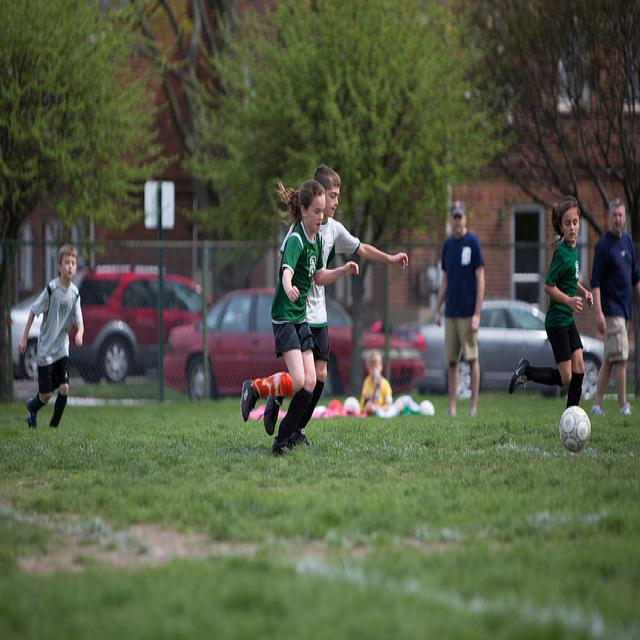Vehicle: (168, 290, 354, 396), (70, 272, 213, 384), (478, 299, 605, 402), (362, 331, 427, 394), (8, 291, 43, 378)
